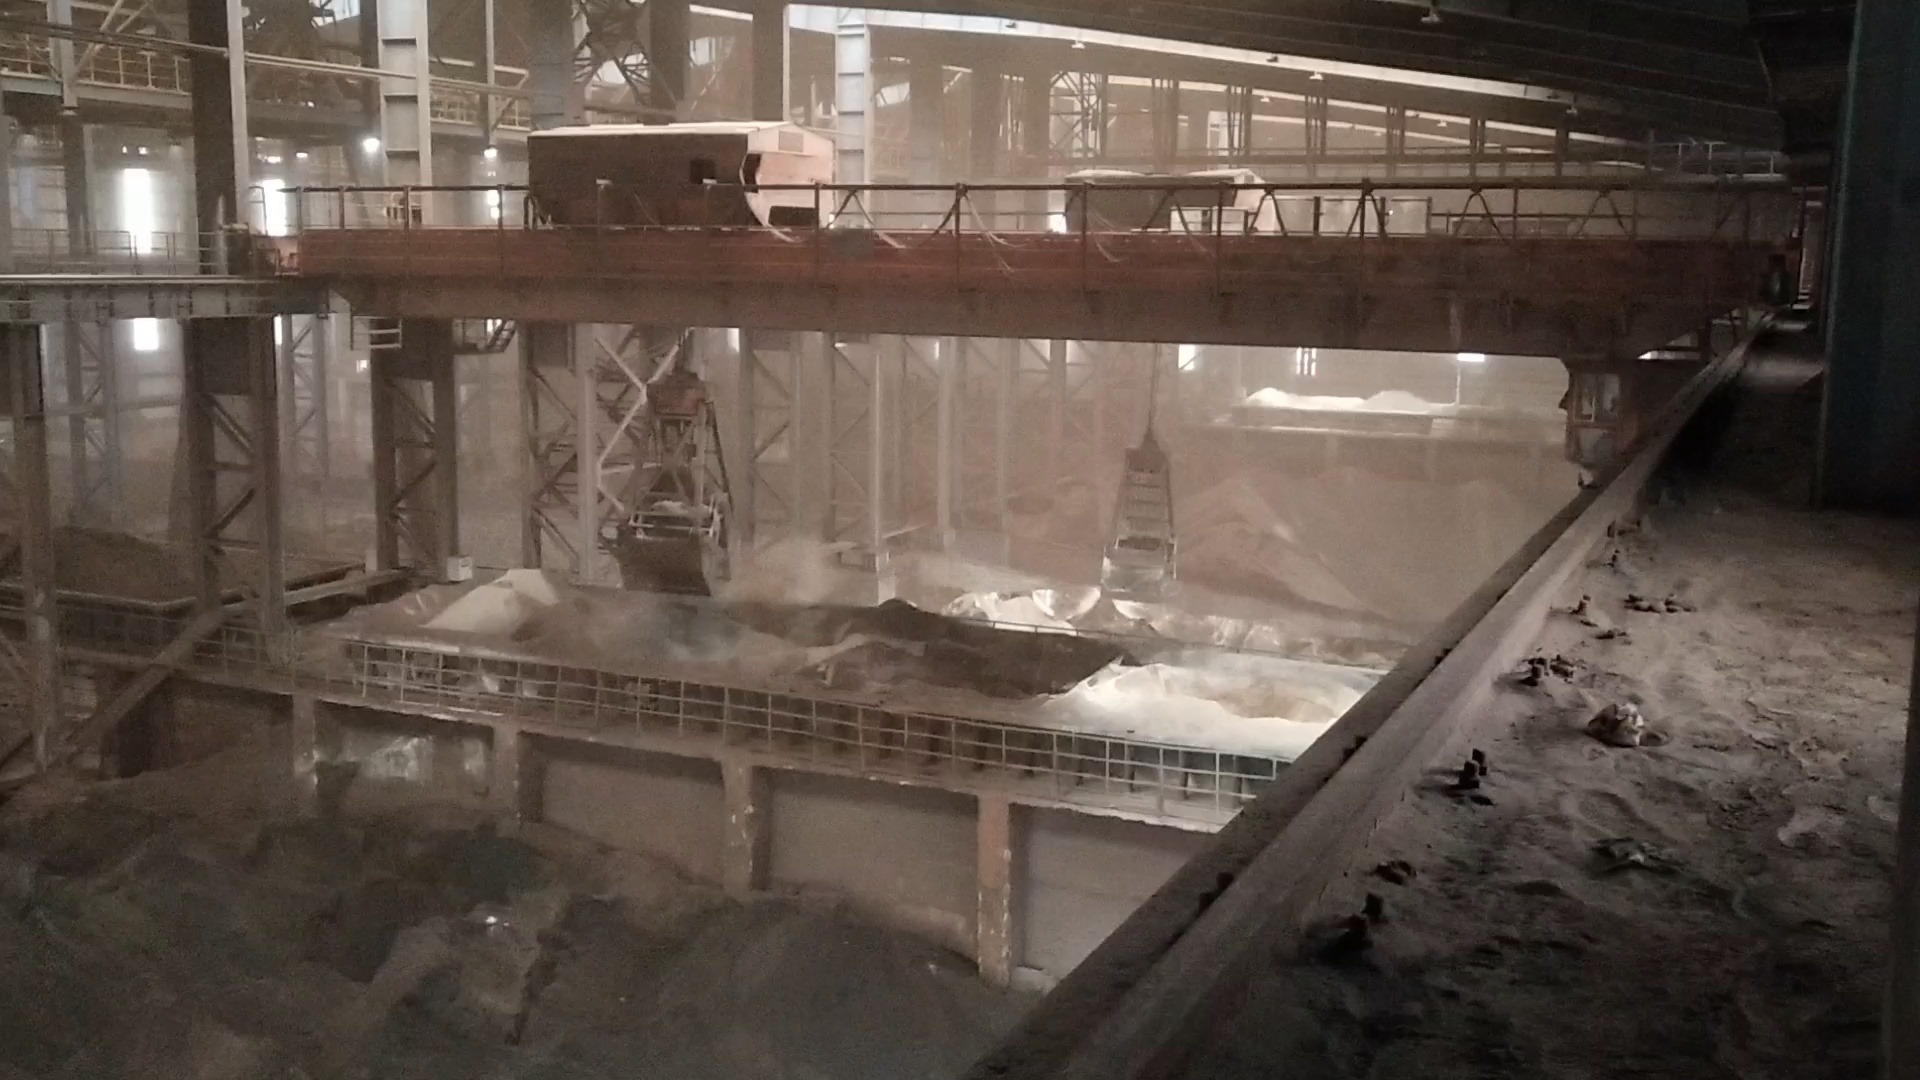dust: (725, 524, 835, 651)
grab: (612, 357, 741, 599), (1095, 422, 1185, 628)
